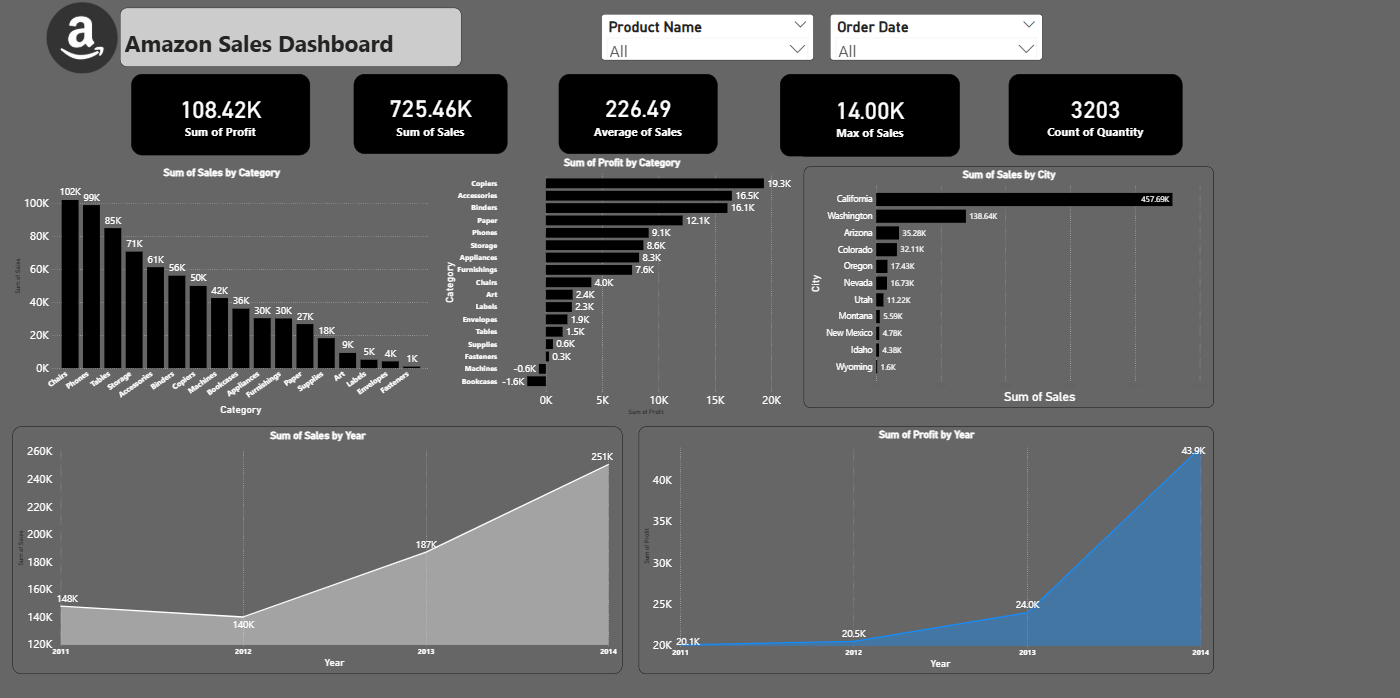

The page's visual inventory and layout, read from the dashboard file:
{"tool":"powerbi","page":{"name":"Page 1","canvas":[3300,1650],"ordinal":0},"visuals":[{"type":"card","fields":{"Values":["Sum(Walmart.Profit)"]},"box":[103.3,173.3,420,190],"z":0},{"type":"image","box":[0,2.3,386,176.7],"z":1000},{"type":"card","fields":{"Values":["Sum(Walmart.Sales)"]},"box":[603.3,176.7,360,186.7],"z":2000},{"type":"card","fields":{"Values":["Avg(Walmart.Sales)"]},"box":[1043.3,176.7,373.3,186.7],"z":3000},{"type":"card","fields":{"Values":["CountNonNull(Walmart.Quantity)"]},"box":[1506.7,176.7,410,190],"z":4000},{"type":"textbox","box":[281.8,21.2,803,139.4],"z":6000},{"type":"clusteredColumnChart","fields":{"Category":["Walmart.Category"],"Y":["Sum(Walmart.Sales)"]},"box":[30.3,393.9,984.8,590.9],"z":7000},{"type":"clusteredBarChart","fields":{"Category":["Walmart.Category"],"Y":["Sum(Walmart.Profit)"]},"box":[1040,370,1080,613.3],"z":8000},{"type":"lineChart","fields":{"Category":["Walmart.Order Date.Variation.Date Hierarchy.Year","Walmart.Order Date.Variation.Date Hierarchy.Quarter","Walmart.Order Date.Variation.Date Hierarchy.Month","Walmart.Order Date.Variation.Date Hierarchy.Day"],"Y":["Sum(Walmart.Sales)"]},"box":[253.3,1036.7,1566.7,580],"z":9000},{"type":"slicer","fields":{"Values":["Walmart.Product Name"]},"box":[1415.2,36.4,500,109.1],"z":10000},{"type":"slicer","fields":{"Values":["Walmart.Order Date"]},"box":[1951.5,36.4,500,109.1],"z":11000},{"type":"lineChart","fields":{"Category":["Walmart.Order Date.Variation.Date Hierarchy.Year"],"Y":["Sum(Walmart.Profit)"]},"box":[1900,1036.7,1353.3,580],"z":12000},{"type":"barChart","fields":{"Category":["Walmart.City"],"Y":["Sum(Walmart.Sales)"]},"box":[2180,390,1073.3,570],"z":13000},{"type":"card","fields":{"Values":["Count(Walmart.EmailID)"]},"box":[2036.7,180,373.3,186.7],"z":14000},{"type":"card","fields":{"Values":["Count(Walmart.Order ID)"]},"box":[2530,180,423.3,193.3],"z":14001}]}

Visuals, with their boxes in screenshot pixels (x1, y1, x2, y2), scaled from the page's 3300x1650 canvas onto the 1400x698 screenshot:
card - Sum(Walmart.Profit): rect(44, 73, 222, 154)
image: rect(0, 1, 164, 76)
card - Sum(Walmart.Sales): rect(256, 75, 409, 154)
card - Avg(Walmart.Sales): rect(443, 75, 601, 154)
card - CountNonNull(Walmart.Quantity): rect(639, 75, 813, 155)
textbox: rect(120, 9, 460, 68)
clusteredColumnChart - Walmart.Category x Sum(Walmart.Sales): rect(13, 167, 431, 417)
clusteredBarChart - Walmart.Category x Sum(Walmart.Profit): rect(441, 157, 899, 416)
lineChart - Walmart.Order Date.Variation.Date Hierarchy.Year x Walmart.Order Date.Variation.Date Hierarchy.Quarter: rect(107, 439, 772, 684)
slicer - Walmart.Product Name: rect(600, 15, 813, 62)
slicer - Walmart.Order Date: rect(828, 15, 1040, 62)
lineChart - Walmart.Order Date.Variation.Date Hierarchy.Year x Sum(Walmart.Profit): rect(806, 439, 1380, 684)
barChart - Walmart.City x Sum(Walmart.Sales): rect(925, 165, 1380, 406)
card - Count(Walmart.EmailID): rect(864, 76, 1022, 155)
card - Count(Walmart.Order ID): rect(1073, 76, 1253, 158)
